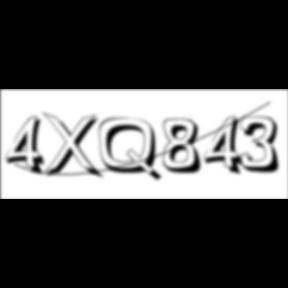3: (241, 116, 287, 176)
4: (4, 115, 52, 179), (204, 115, 250, 179)
8: (164, 117, 208, 176)
Q: (99, 117, 165, 184)
X: (42, 112, 106, 182)
